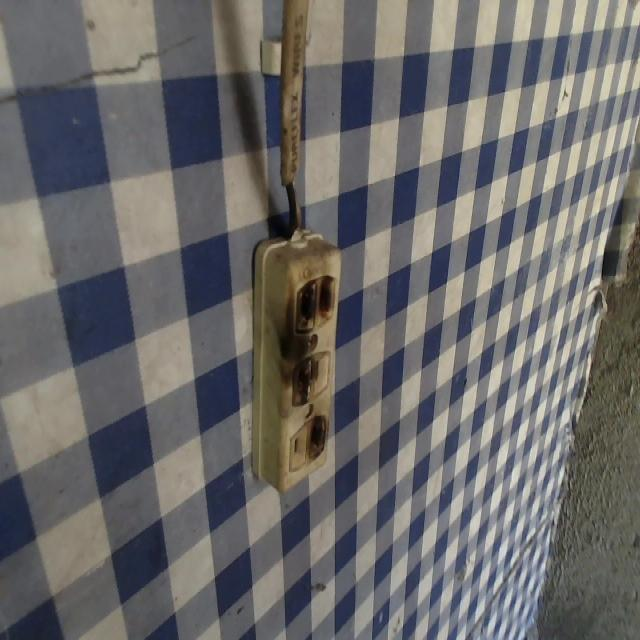-: (292, 273, 333, 327), (289, 355, 313, 405), (308, 412, 328, 459)
